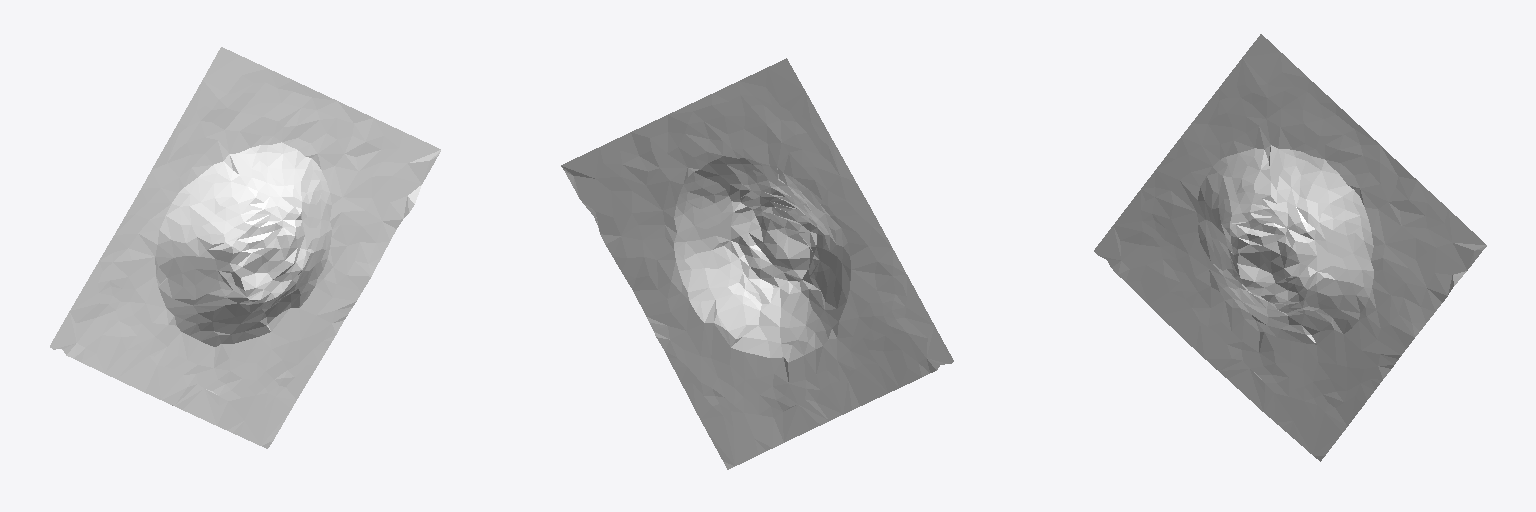
File: dirt.obj
3 views of the same model, side by side, from view 1: azimuth 30°, elevation 25°; view 2: azimuth 150°, elevation 25°; view 3: azimuth 330°, elevation 25° (orthographic).
Parts seen in each view (by area): view 1: dirt; view 2: dirt; view 3: dirt.
Part boxes in pixels (x1,y1,x2,y2): dirt: (50,47,440,448); dirt: (561,58,953,469); dirt: (1094,34,1486,461).
Bounding box in the file's own units: 32.52 × 33.22 × 4.11.